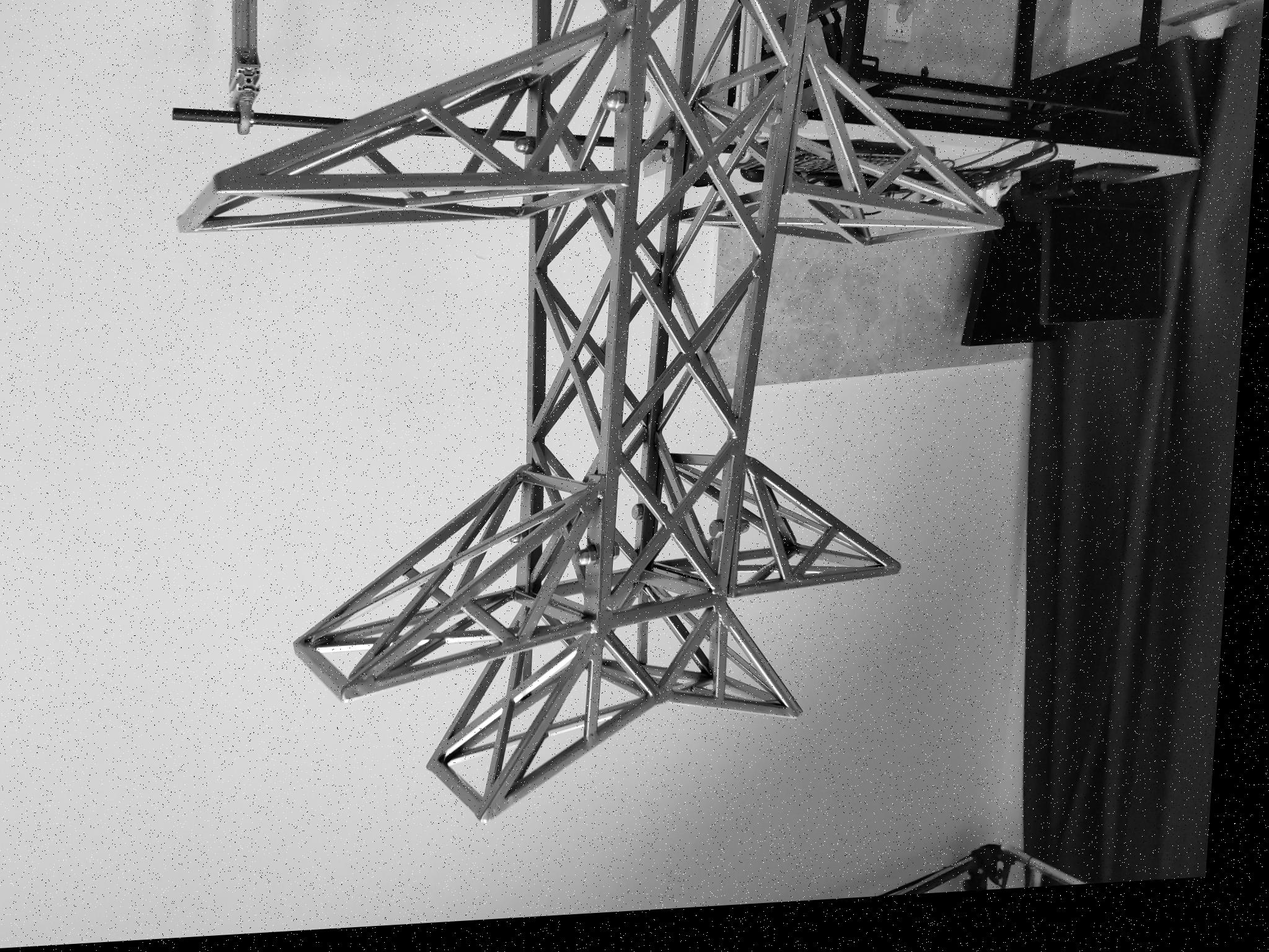tower: (140, 0, 1017, 841)
